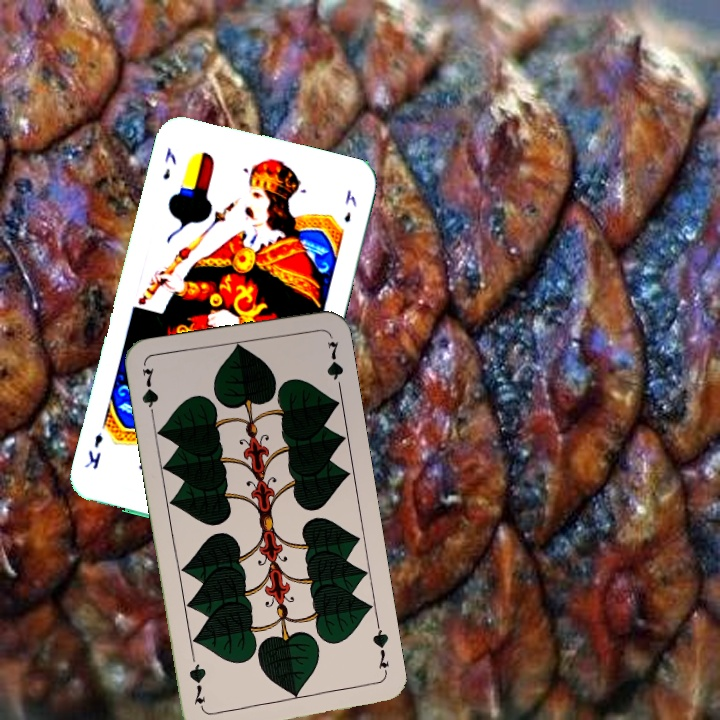EK: (158, 143, 179, 182)
G7: (368, 620, 392, 679), (138, 364, 161, 422)
